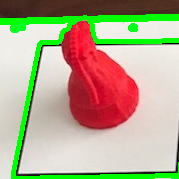Red Knight: (58, 19, 142, 128)
